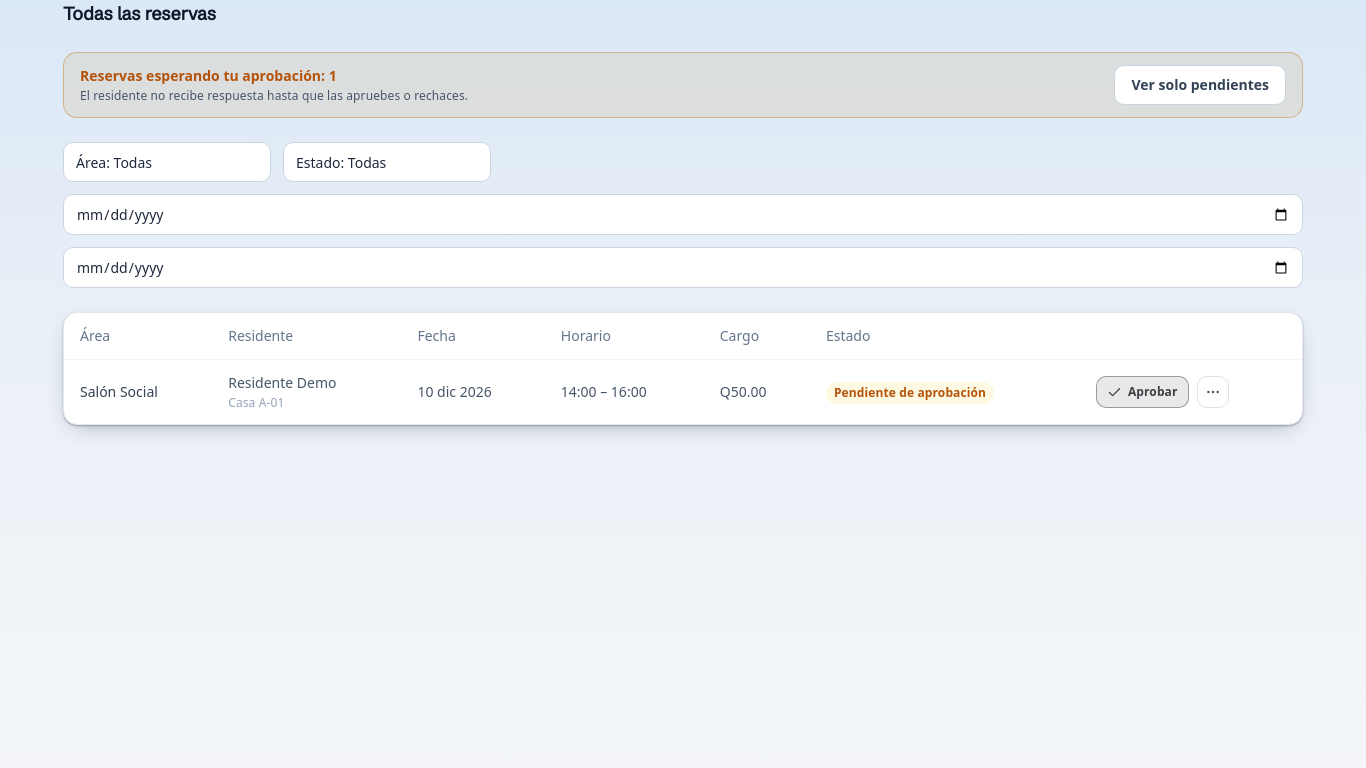
Test: AdminReservasPage › no rechaza nada si el admin cancela el diálogo
Click the button named "Más acciones" at [1212, 392], box [1196,376,1228,408]
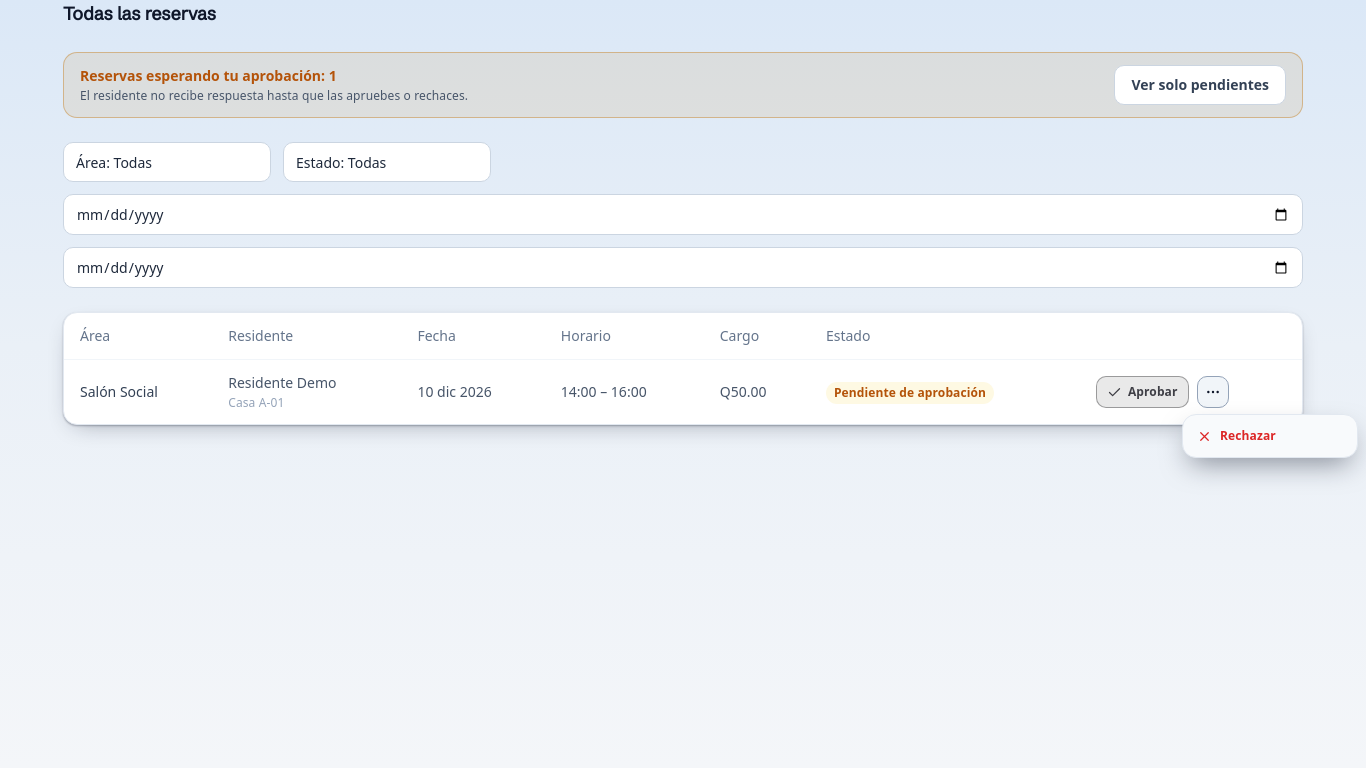
Click the menu item "Rechazar" at [1270, 436], box [1187,419,1353,453]
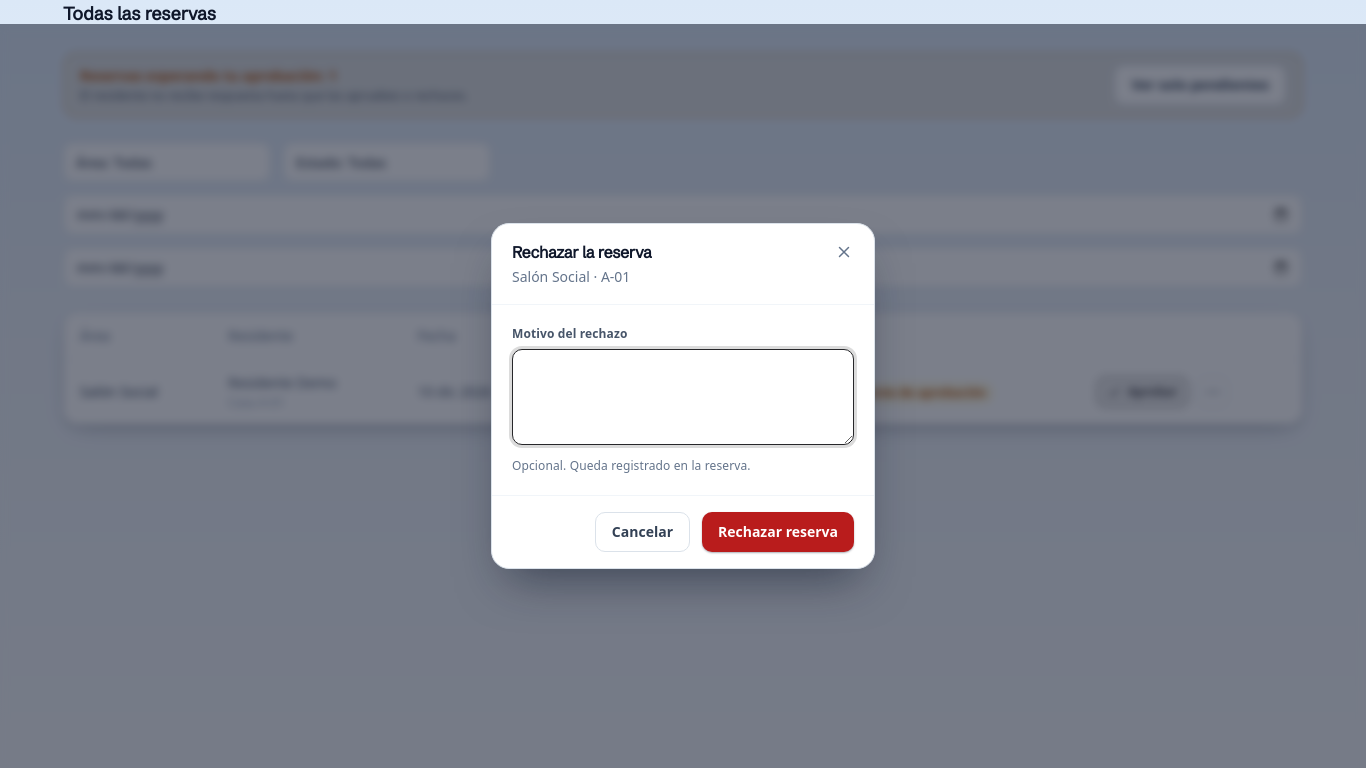
Click the button "Cancelar" at [642, 532], box [595,512,690,552]
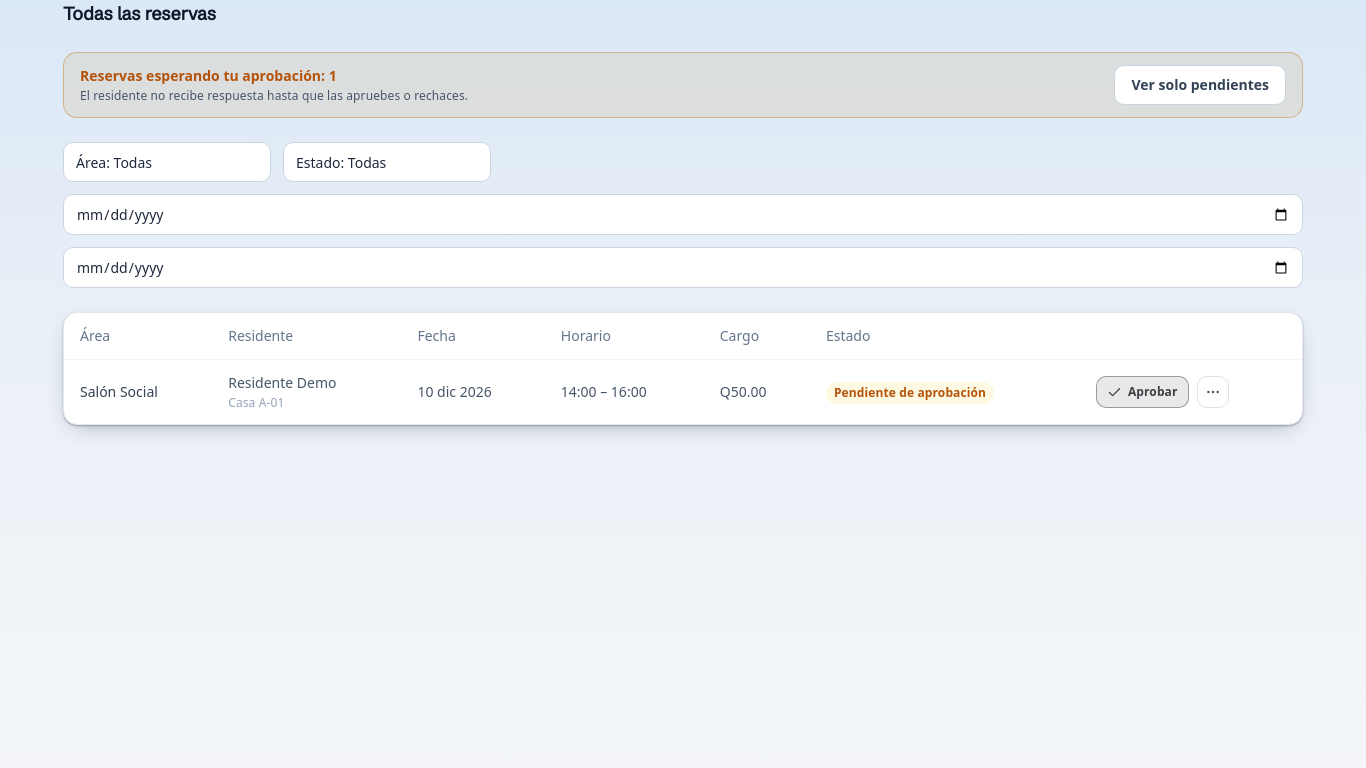
Expected: the dialog is gone
